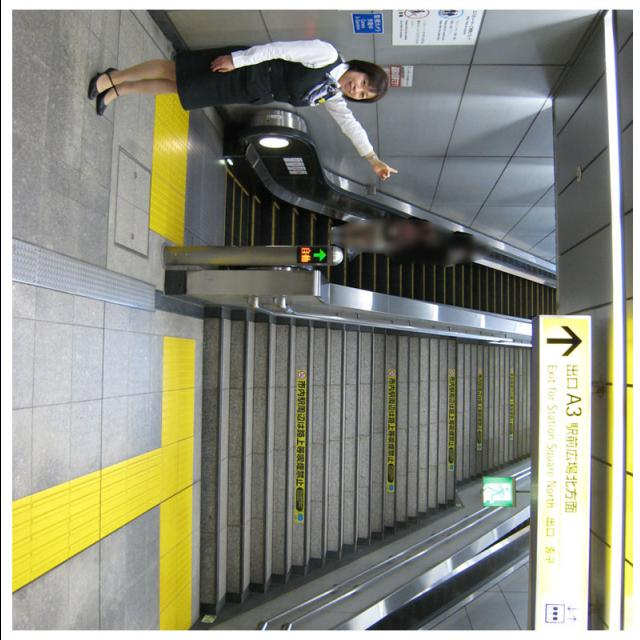tactile-guide-path: (9, 448, 161, 595), (161, 333, 195, 632), (144, 91, 190, 247)
